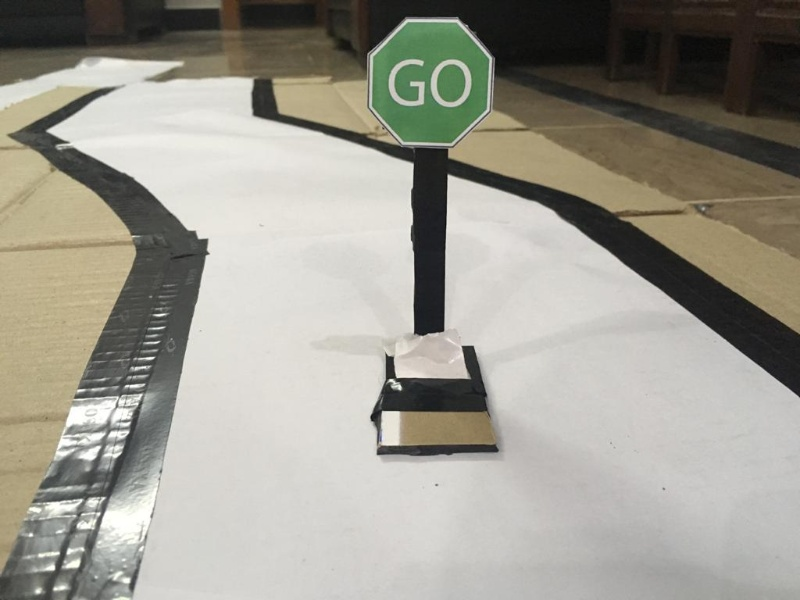Go: (357, 12, 494, 151)
